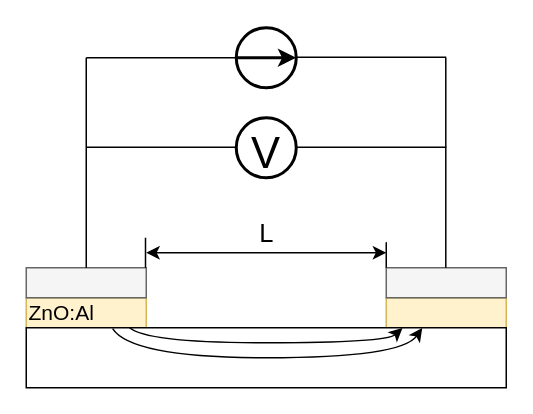
This 533x414 diagram has some shape labels left out. Here are the shapes that lost their labels. From the top down, the box of each, then its label:
(25, 266, 146, 298): Ag
(25, 326, 506, 388): Si
